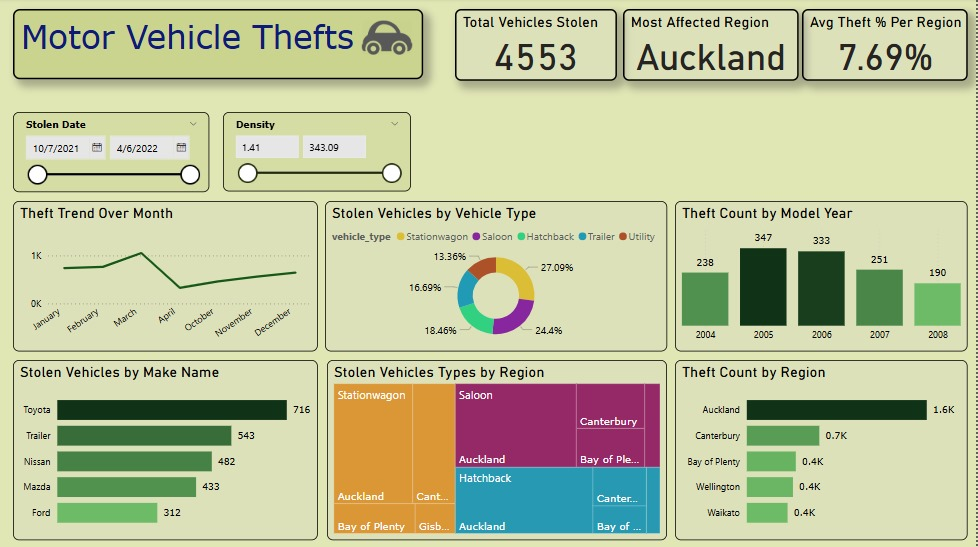

Layout of this report page (visuals, bound fields, positions):
{"tool":"powerbi","page":{"name":"Page 1","canvas":[1280,720],"ordinal":0},"visuals":[{"type":"card","title":"Total Vehicles Stolen","fields":{"Values":["locations.Total Stolen Vehicles"]},"box":[598.7,13.8,212,93.6],"z":0},{"type":"card","title":"Most Affected Region","fields":{"Values":["locations.Most Affected Region"]},"box":[817.5,13.8,229.8,93.6],"z":1000},{"type":"lineChart","title":"Theft Trend Over Month","fields":{"Y":["CountNonNull(stolen_vehicles.vehicle_id)"],"Category":["stolen_vehicles.date_stolen.Variation.Date Hierarchy.Month"]},"box":[19.6,265.8,398.7,197.2],"z":2000},{"type":"clusteredBarChart","title":"Theft Count by Region","fields":{"Y":["CountNonNull(stolen_vehicles.vehicle_id)"],"Category":["locations.region"]},"box":[886.9,474.2,383.3,236.4],"z":3000},{"type":"treemap","title":"Stolen Vehicles Types by Region","fields":{"Details":["locations.region"],"Values":["CountNonNull(stolen_vehicles.vehicle_id)"],"Group":["stolen_vehicles.vehicle_type"]},"box":[430.9,474.2,444.9,236.4],"z":4000},{"type":"donutChart","title":"Stolen Vehicles by Vehicle Type","fields":{"Category":["stolen_vehicles.vehicle_type"],"Y":["CountNonNull(stolen_vehicles.vehicle_id)"]},"box":[428.1,265.8,447.7,197.2],"z":5000},{"type":"card","title":"Avg Theft % Per Region","fields":{"Values":["locations.Average Theft Percentage per Region"]},"box":[1052.9,13.8,217.5,93.6],"z":6000},{"type":"textbox","box":[19.3,13.8,536.8,92.2],"z":7000},{"type":"image","box":[470.7,13.8,75.7,74.3],"z":8000},{"type":"barChart","title":"Stolen Vehicles by Make Name","fields":{"Category":["make_details.make_name"],"Y":["CountNonNull(stolen_vehicles.vehicle_id)"]},"box":[19.6,474.2,398.7,236.4],"z":9000},{"type":"slicer","fields":{"Values":["stolen_vehicles.date_stolen"]},"box":[19.6,149.7,257.4,104.9],"z":10000},{"type":"slicer","fields":{"Values":["locations.density"]},"box":[295.2,149.7,246.2,103.5],"z":11000},{"type":"columnChart","title":"Theft Count by Model Year","fields":{"Category":["stolen_vehicles.model_year"],"Y":["CountNonNull(stolen_vehicles.vehicle_id)"]},"box":[886.9,265.8,383.3,197.2],"z":11001}]}

Visuals, with their boxes in screenshot pixels (x1, y1, x2, y2), scaled from the page's 1280x720 canvas onto the 978x547 screenshot:
"Total Vehicles Stolen" card: (left=457, top=10, right=619, bottom=82)
"Most Affected Region" card: (left=625, top=10, right=800, bottom=82)
"Theft Trend Over Month" lineChart: (left=15, top=202, right=320, bottom=352)
"Theft Count by Region" clusteredBarChart: (left=678, top=360, right=971, bottom=540)
"Stolen Vehicles Types by Region" treemap: (left=329, top=360, right=669, bottom=540)
"Stolen Vehicles by Vehicle Type" donutChart: (left=327, top=202, right=669, bottom=352)
"Avg Theft % Per Region" card: (left=804, top=10, right=971, bottom=82)
textbox: (left=15, top=10, right=425, bottom=81)
image: (left=360, top=10, right=417, bottom=67)
"Stolen Vehicles by Make Name" barChart: (left=15, top=360, right=320, bottom=540)
slicer - stolen_vehicles.date_stolen: (left=15, top=114, right=212, bottom=193)
slicer - locations.density: (left=226, top=114, right=414, bottom=192)
"Theft Count by Model Year" columnChart: (left=678, top=202, right=971, bottom=352)
